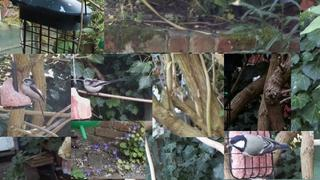great tit: (226, 134, 290, 157)
long tailed tit: (21, 78, 47, 128), (82, 78, 128, 96)
